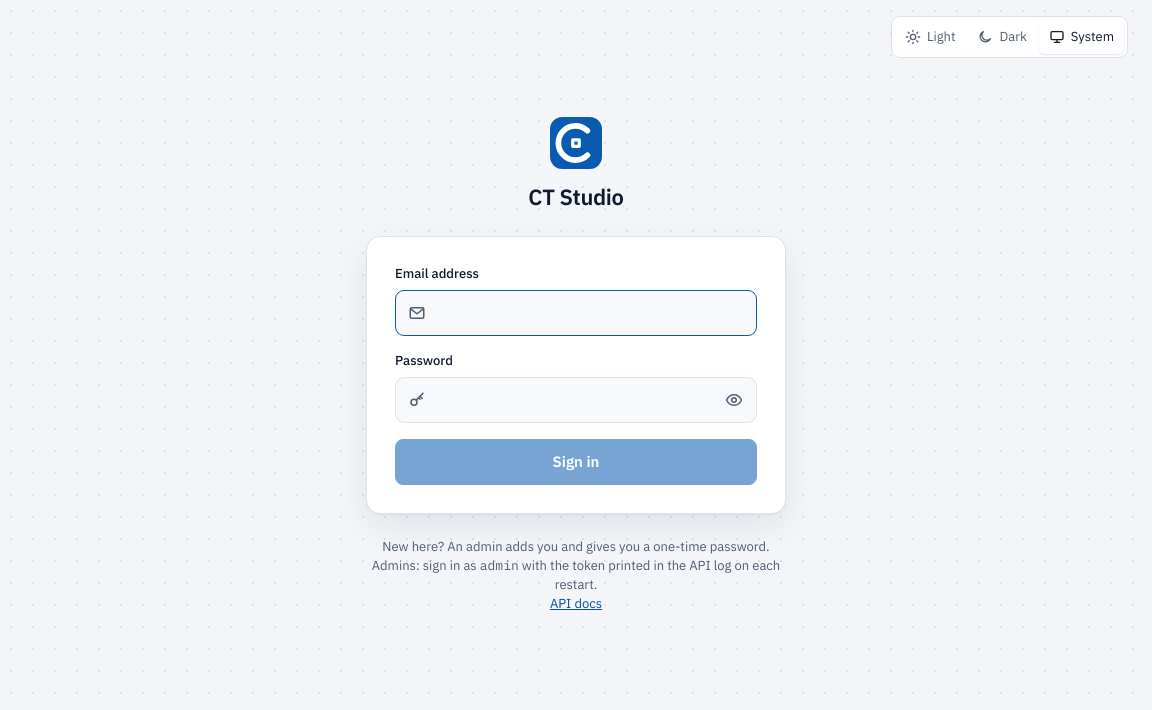
Test: maintenance: what people see › a user refused at sign-in sees the banner, not a sign-in error
Type "pat@example.com" into the field labelled "Email address" at (591, 313), box x1=426 y1=291 x2=756 y2=335
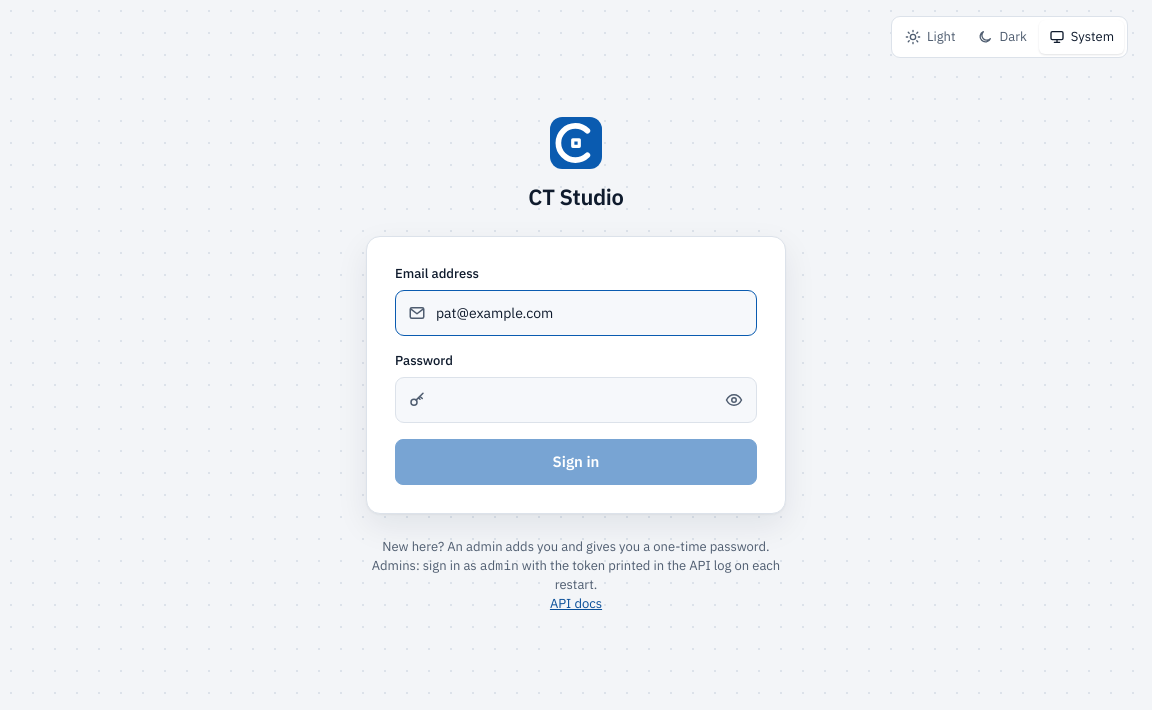
Type "a long test phrase" into the password field labelled "Password" at (569, 400), box x1=426 y1=378 x2=712 y2=422
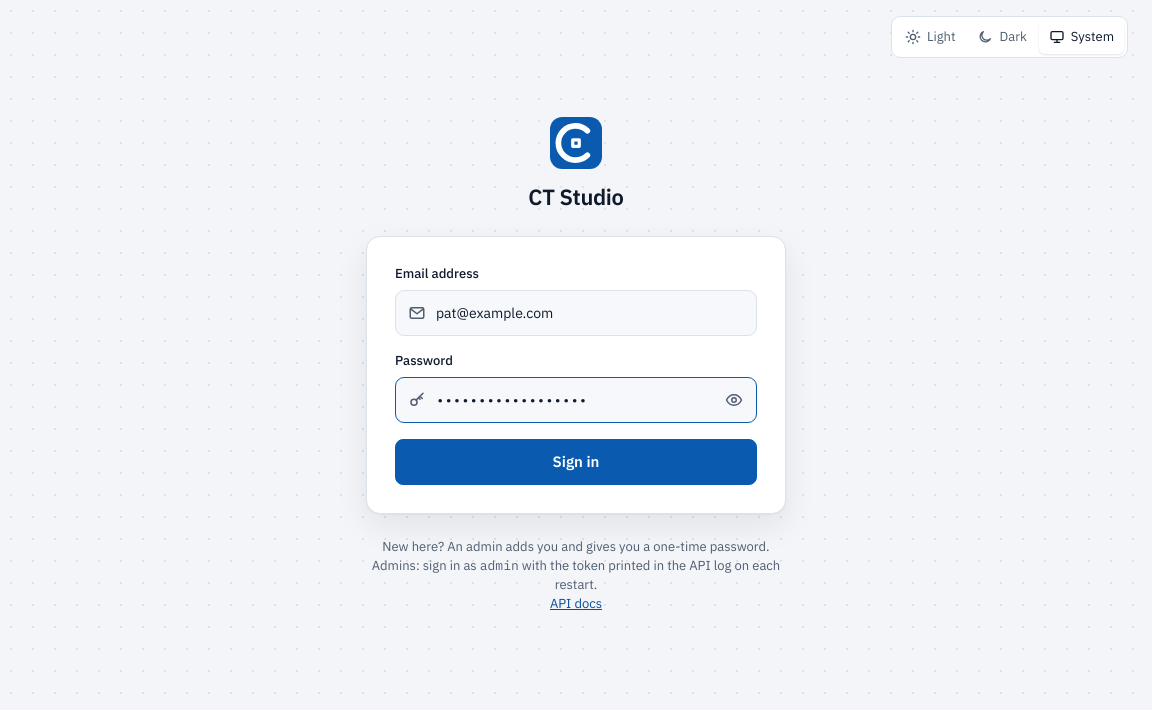
Click the button "Sign in" at (576, 462), box x1=395 y1=439 x2=757 y2=485
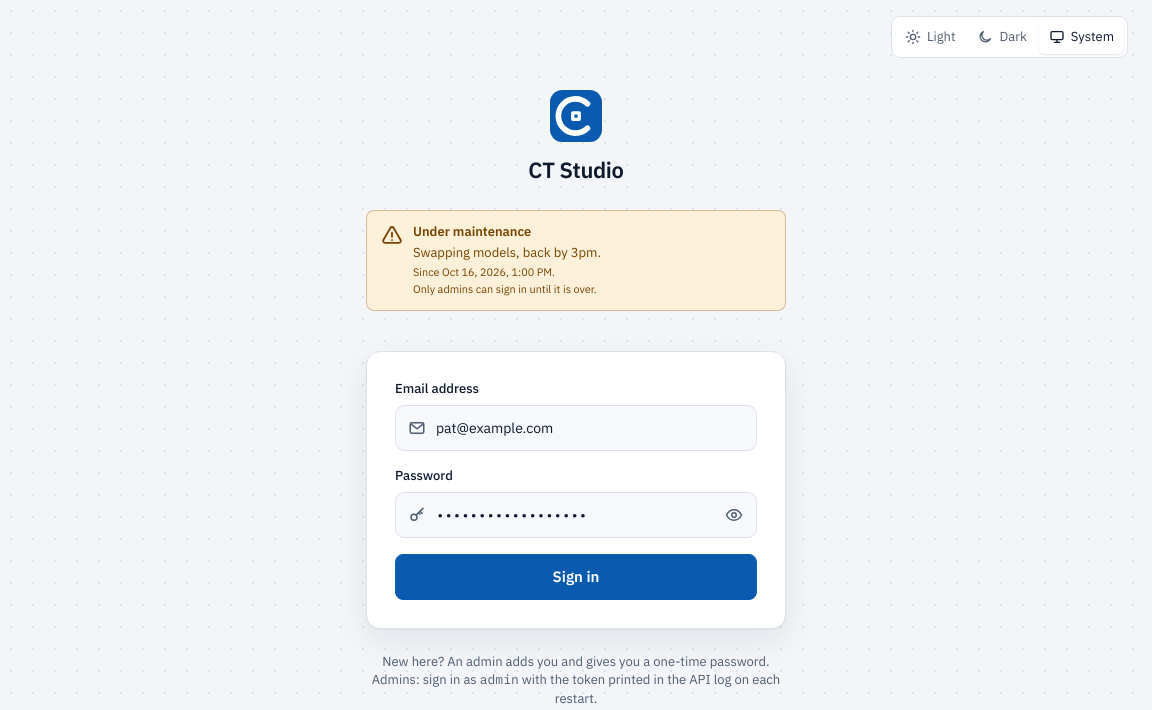
Check: the message "Under maintenance" shows "Swapping models, back by 3pm.", box x1=413 y1=244 x2=601 y2=261
